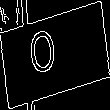O_S: (39, 26, 71, 84)
